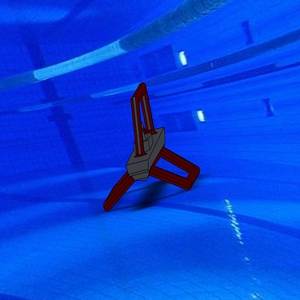submarine: (97, 79, 203, 216)
